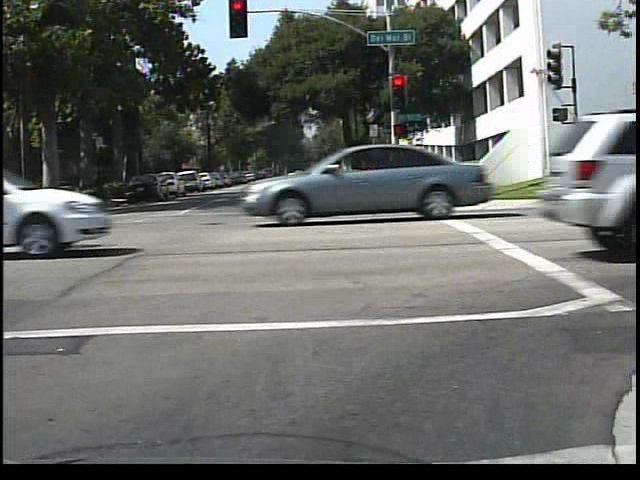person: (604, 137, 630, 202)
